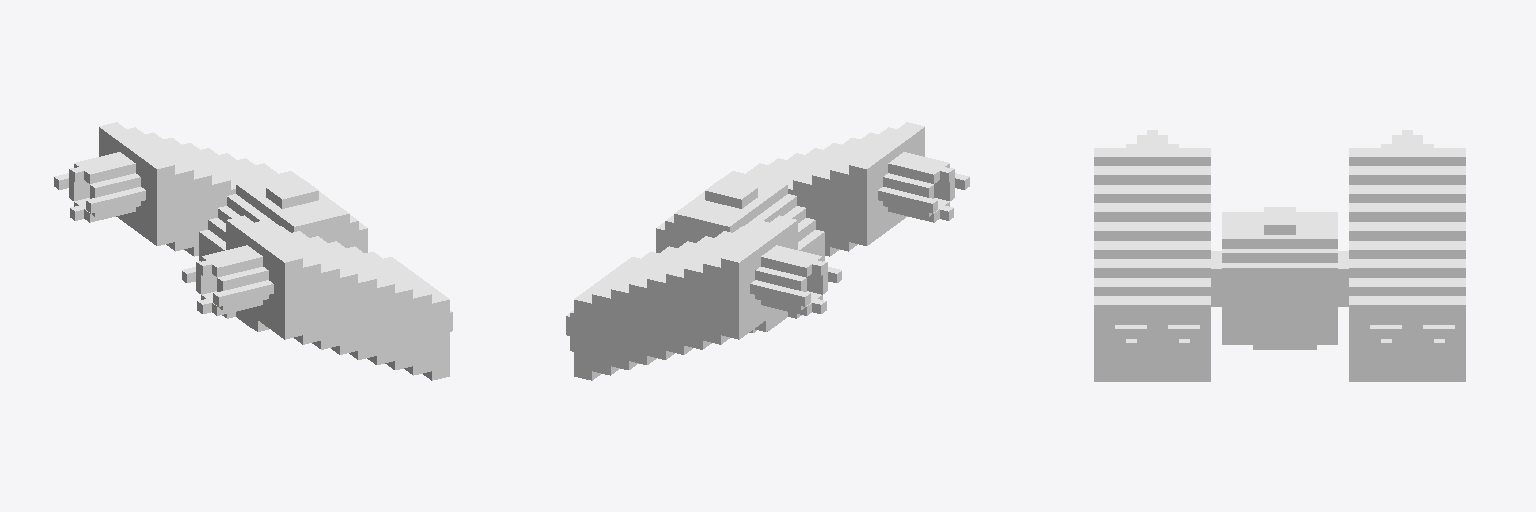
Rendered from WeaponBuildingUp.obj.
The picture shows the model from 3 angles: view 1: azimuth 30°, elevation 25°; view 2: azimuth 150°, elevation 25°; view 3: azimuth 270°, elevation 25°; orthographic projection.
Bounding box in the file's own units: 26 × 16 × 35.